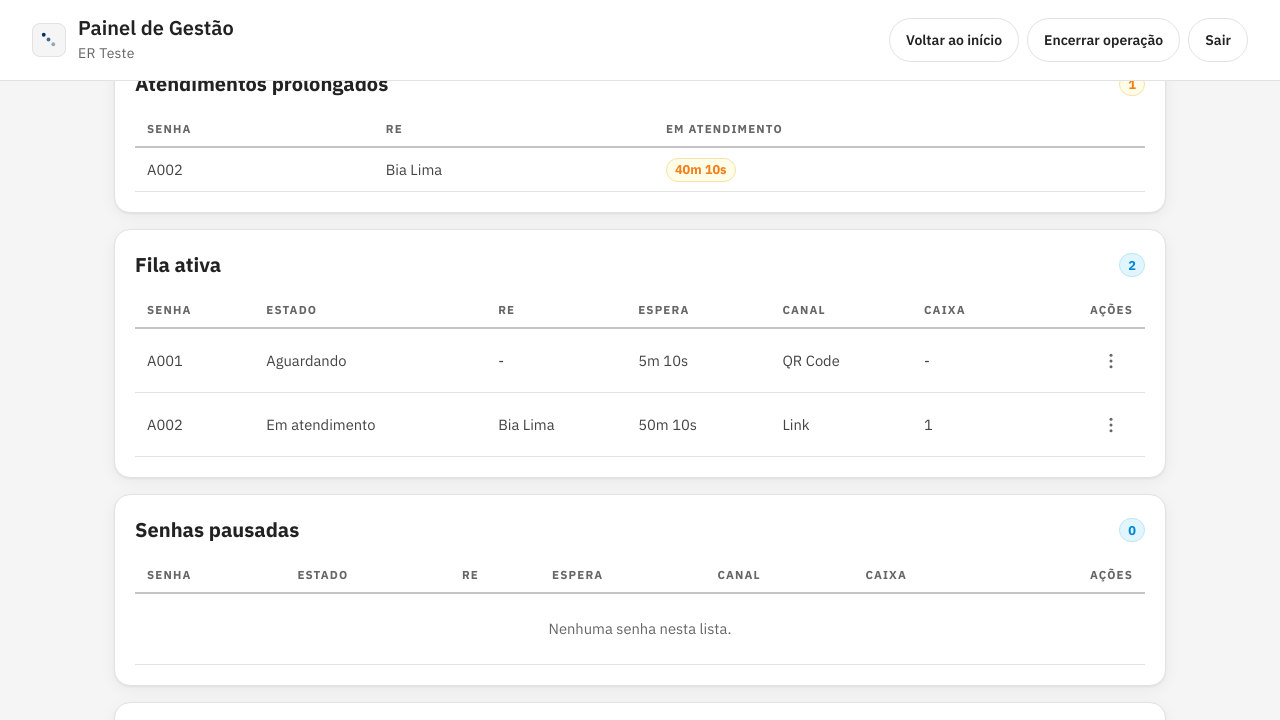
it: ManagerPage › closes the cancel dialog without acting
(page scrolled)
Expected: the heading "Fila ativa" is shown, [135, 250, 221, 280]
Click the button named "Ações da senha A001": (1111, 361) [1089, 339, 1133, 383]
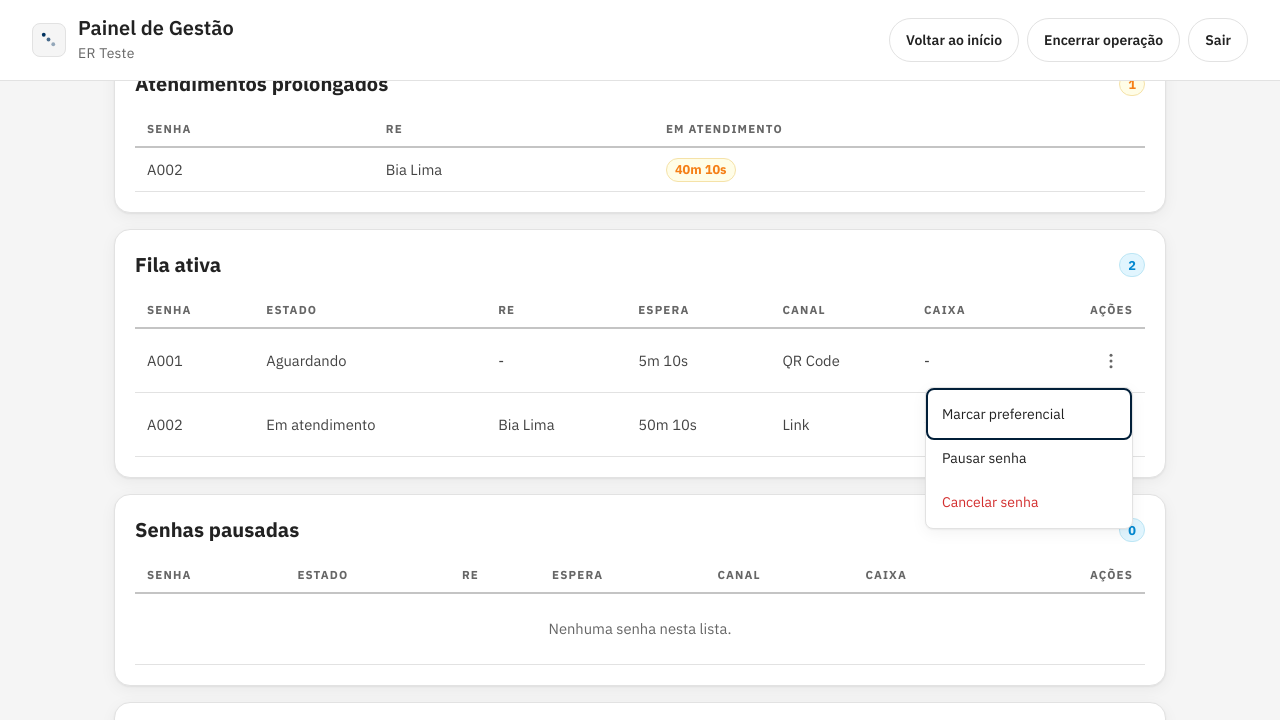
Click the menu item "Cancelar senha": (1029, 502) [930, 480, 1128, 524]
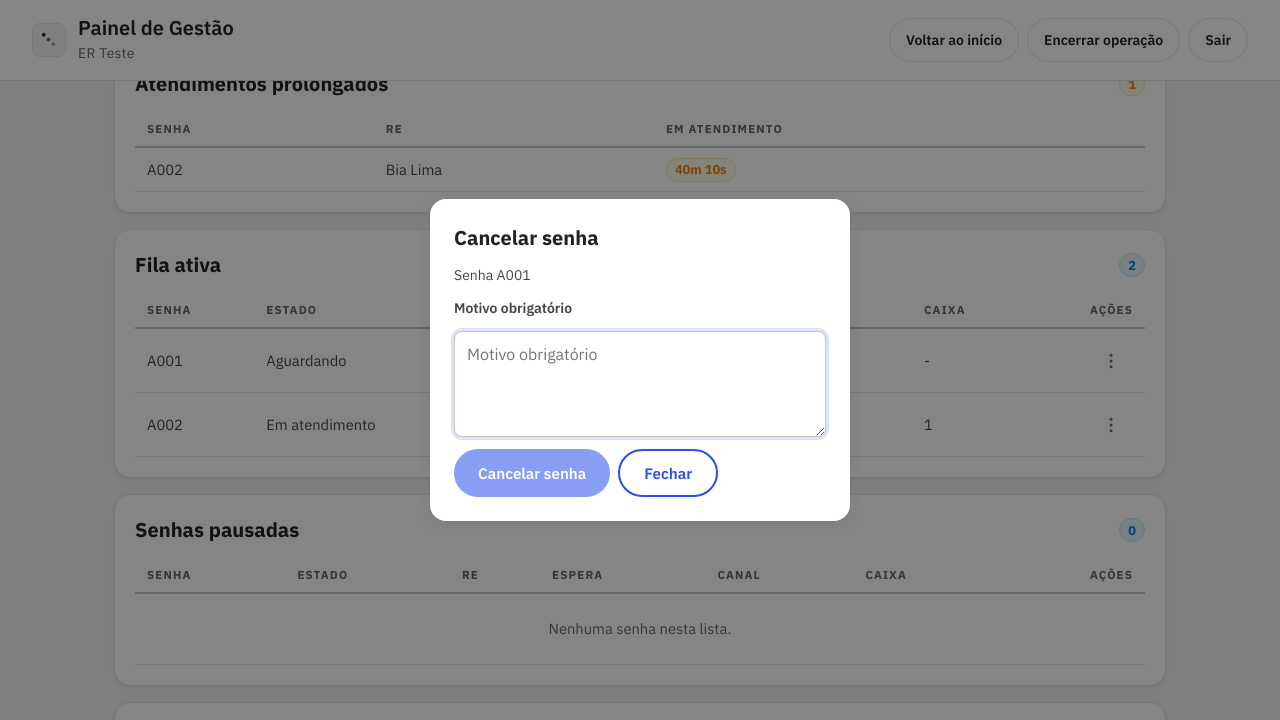
Click the button "Fechar": (668, 473) [618, 449, 718, 497]
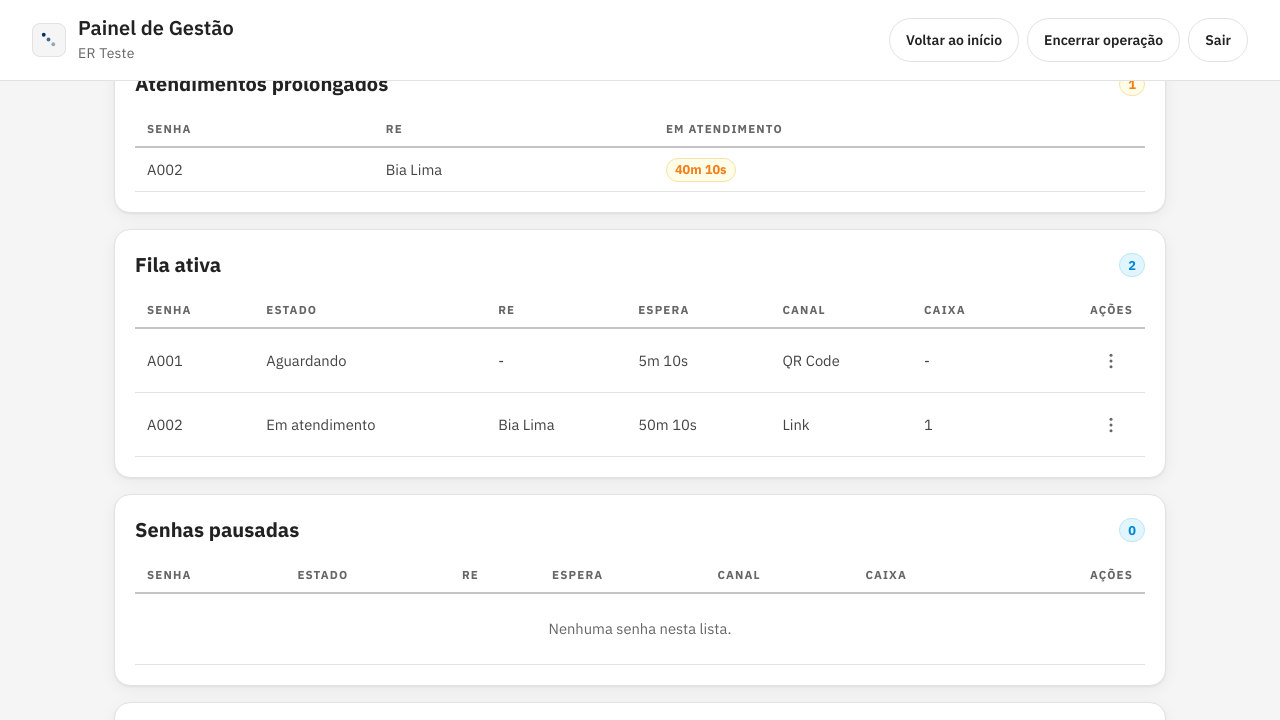
Now the dialog is gone
